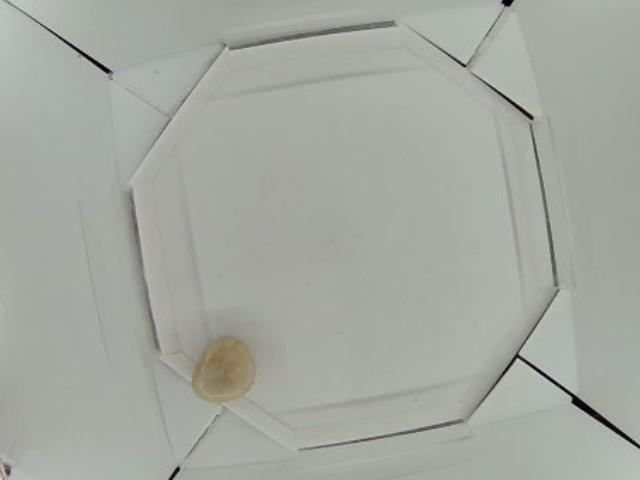Pebble: (193, 336, 258, 399)
